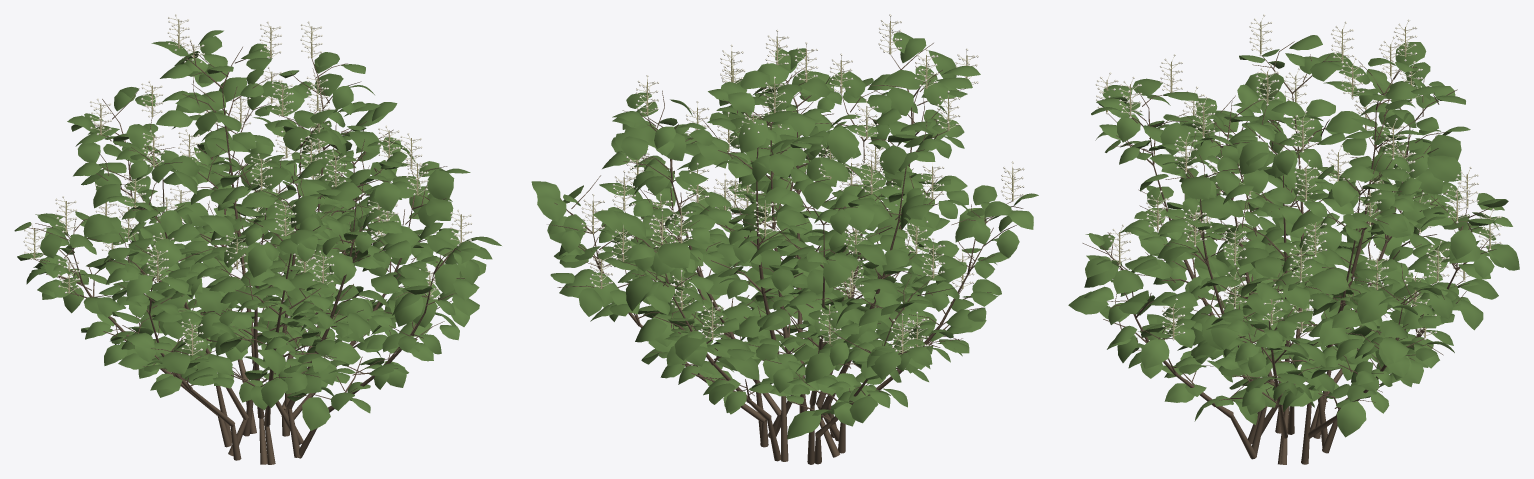
File: fothergilla.glb
3 renders of one model, left to right at view 1: azimuth 30°, elevation 25°; view 2: azimuth 150°, elevation 25°; view 3: azimuth 270°, elevation 25°, orthographic. The views are drawn at different scales.
Visible parts, largest first — view 1: leaves, branches, blooms; view 2: leaves, branches, blooms; view 3: leaves, branches, blooms.
Part boxes in pixels (x1,y1,x2,y2): leaves: [14, 30, 501, 430]; branches: [26, 41, 464, 464]; blooms: [23, 14, 472, 355]; leaves: [531, 32, 1038, 439]; branches: [547, 43, 1023, 464]; blooms: [581, 14, 1024, 353]; leaves: [1068, 35, 1519, 437]; branches: [1082, 41, 1496, 464]; blooms: [1095, 14, 1501, 340].
Size of the model in its own units: 2.86 by 2.8 by 2.79.
